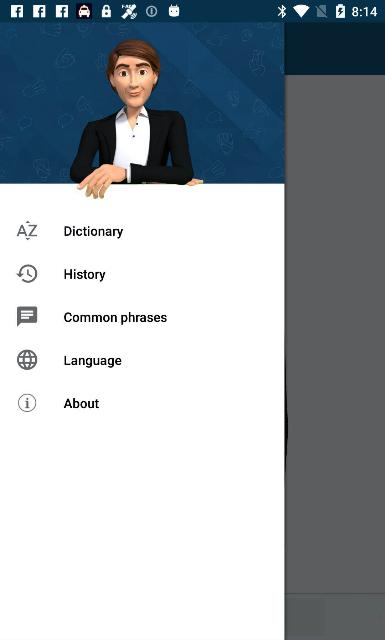Drawer: (0, 22, 284, 640)
Icon: (16, 348, 38, 369), (16, 306, 38, 326), (16, 220, 38, 240), (16, 264, 38, 282), (17, 394, 36, 412)
Image: (0, 23, 284, 199)
List: (0, 200, 284, 432)
Text: (64, 312, 166, 324), (64, 226, 124, 238), (64, 356, 122, 368), (64, 268, 106, 282), (63, 398, 99, 408)
UpperTaskBar: (0, 0, 384, 22)
